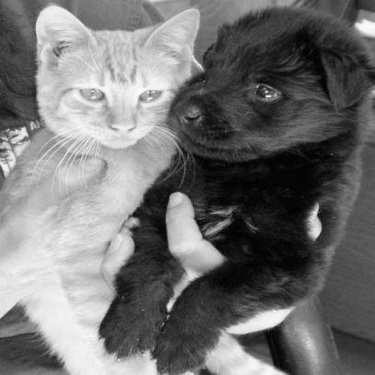cat: (6, 6, 293, 369)
dog: (99, 5, 366, 371)
